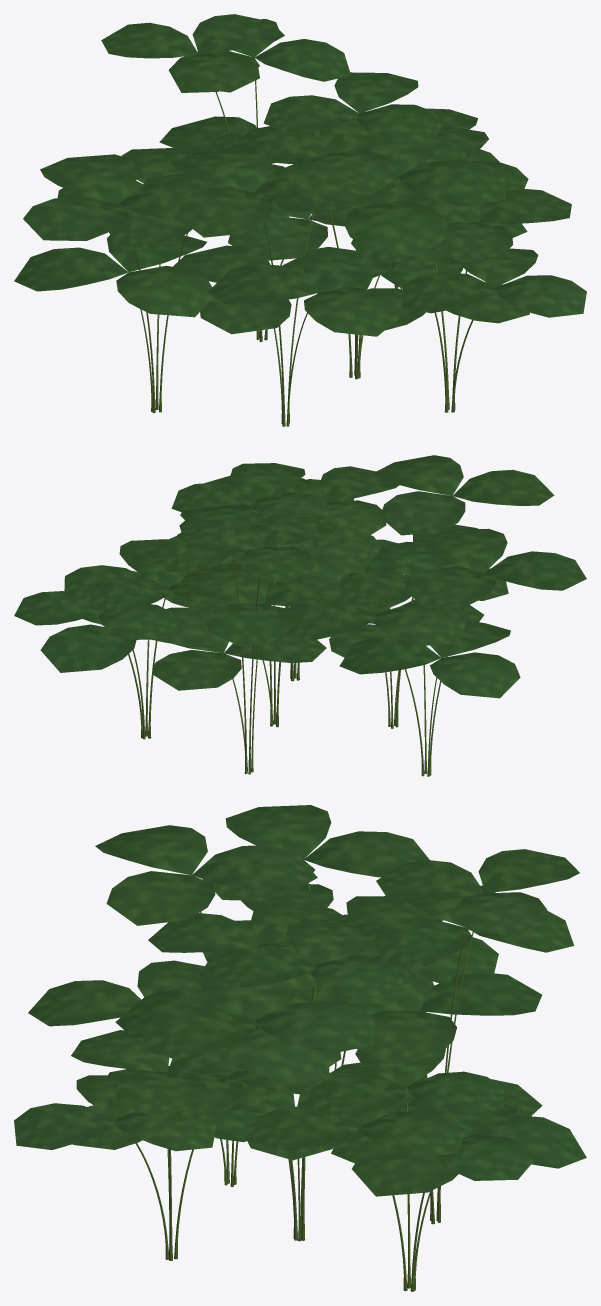
Rendered from cloverb.glb.
3 renders of one model, top to bottom at view 1: azimuth 30°, elevation 25°; view 2: azimuth 150°, elevation 25°; view 3: azimuth 270°, elevation 25°, orthographic. The views are drawn at different scales.
Visible parts, largest first — view 1: Foliage, Stems; view 2: Foliage, Stems; view 3: Foliage, Stems.
Boxes of the visible parts, left/top/right/bottom form: Foliage: left=14, top=14, right=586, bottom=336; Stems: left=125, top=80, right=495, bottom=426; Foliage: left=14, top=455, right=586, bottom=698; Stems: left=128, top=500, right=464, bottom=776; Foliage: left=14, top=805, right=586, bottom=1196; Stems: left=115, top=859, right=473, bottom=1291.
Bounding box in the file's own units: 0.5825 × 0.3 × 0.4927.
Materials: 2 (1 with a texture image).
